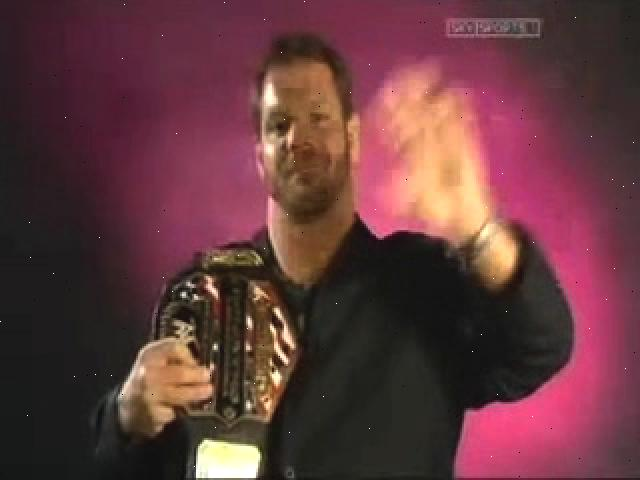L: (89, 33, 570, 478)
